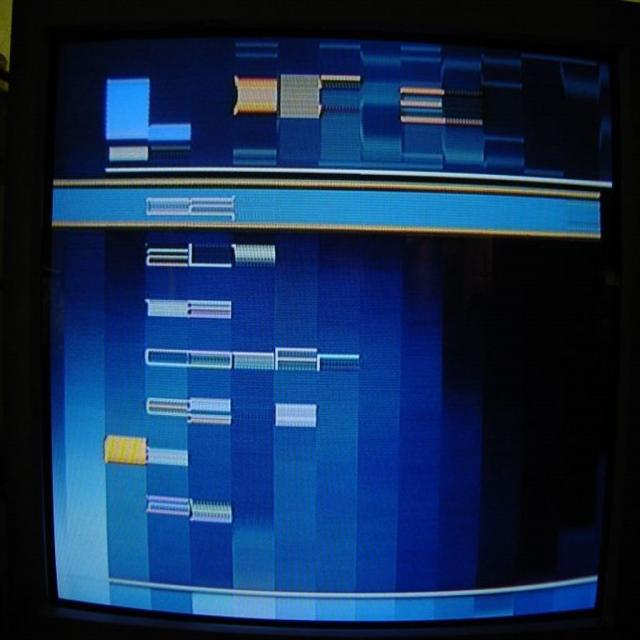others: (9, 3, 633, 640)
